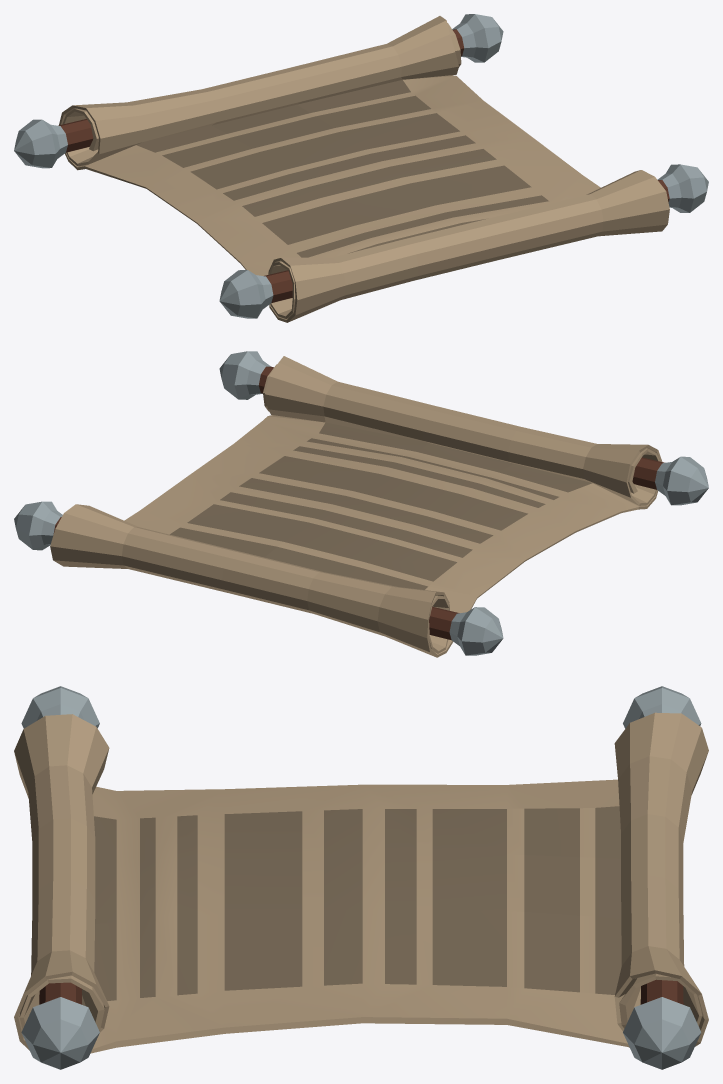
File: PT_Scroll_03_a.fbx
3 renders of one model, top to bottom at view 1: azimuth 30°, elevation 25°; view 2: azimuth 150°, elevation 25°; view 3: azimuth 270°, elevation 25°, orthographic. The views are drawn at different scales.
Visible parts, largest first — view 1: PT_Scroll_03_a; view 2: PT_Scroll_03_a; view 3: PT_Scroll_03_a.
Boxes of the visible parts, <box> form: PT_Scroll_03_a: <box>14,14,708,322</box>; PT_Scroll_03_a: <box>14,351,708,657</box>; PT_Scroll_03_a: <box>14,686,708,1069</box>.
Size of the model in its own units: 52.79 by 6.39 by 44.35.
